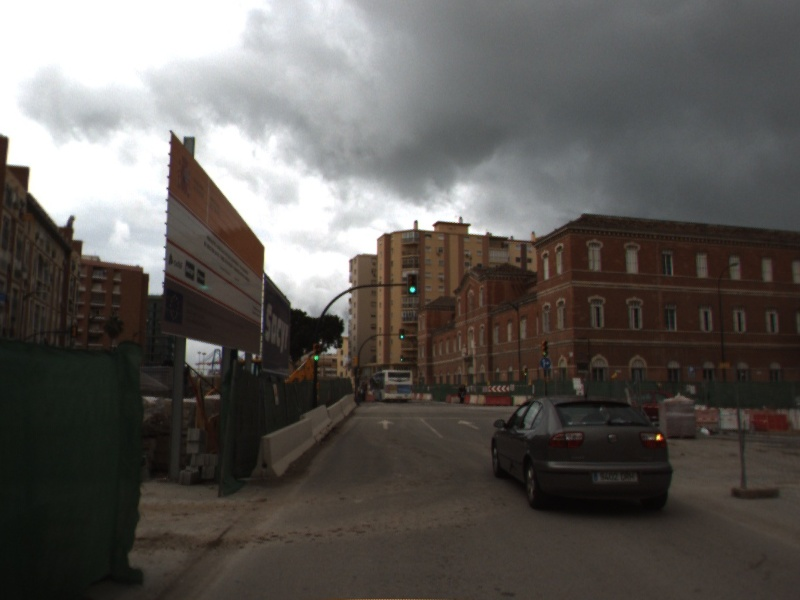STRAIGHT: (456, 418, 483, 431), (375, 418, 397, 430)
